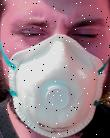with_mask: (2, 2, 110, 138)
